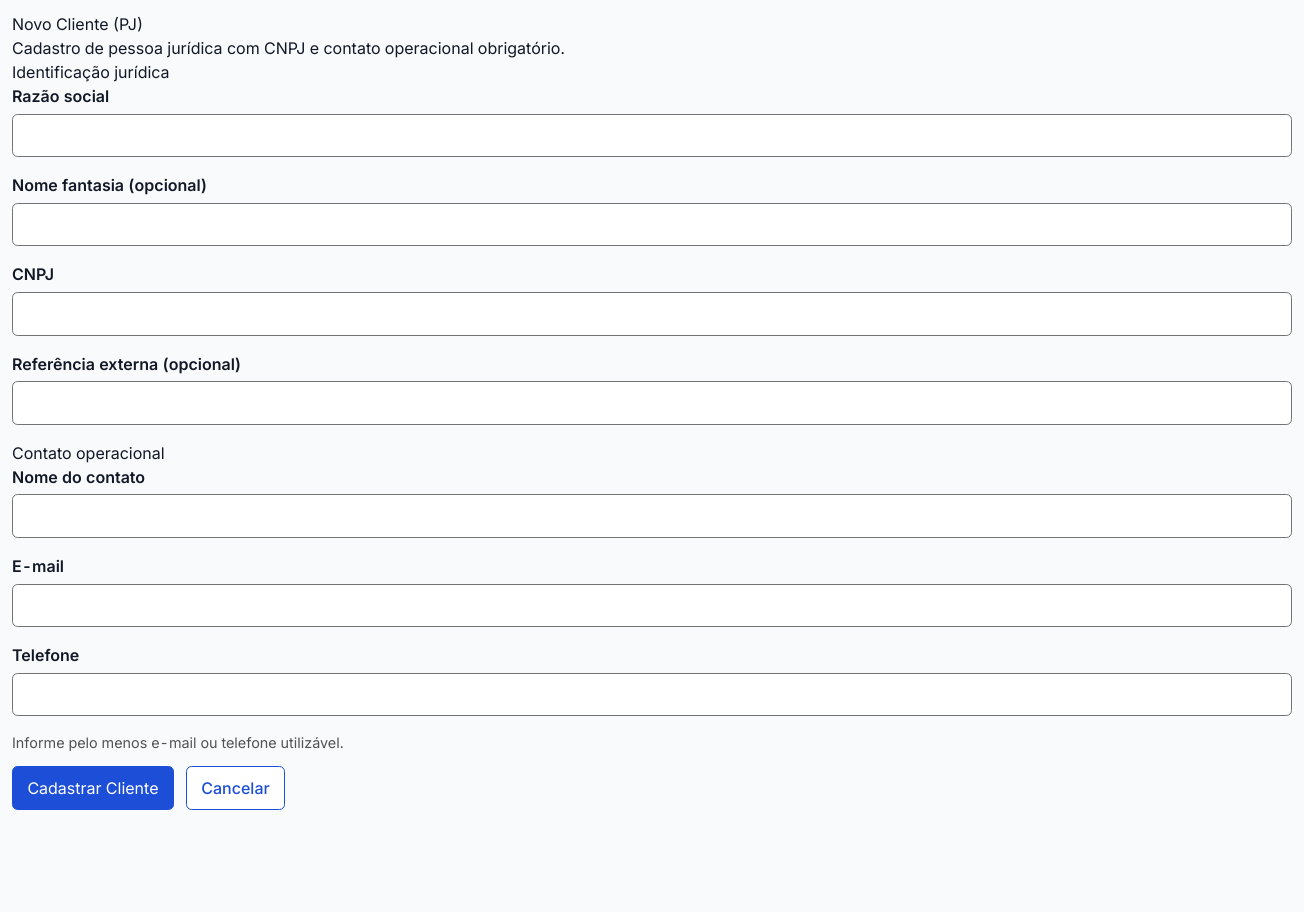
Test: ClientCreatePage › maps duplicate CNPJ to business message
Expected: the heading "Novo Cliente (PJ)" is shown, [12, 14, 143, 34]
Type "Outra LTDA" into the field labelled "Razão social" at (652, 135), box [12, 114, 1292, 157]
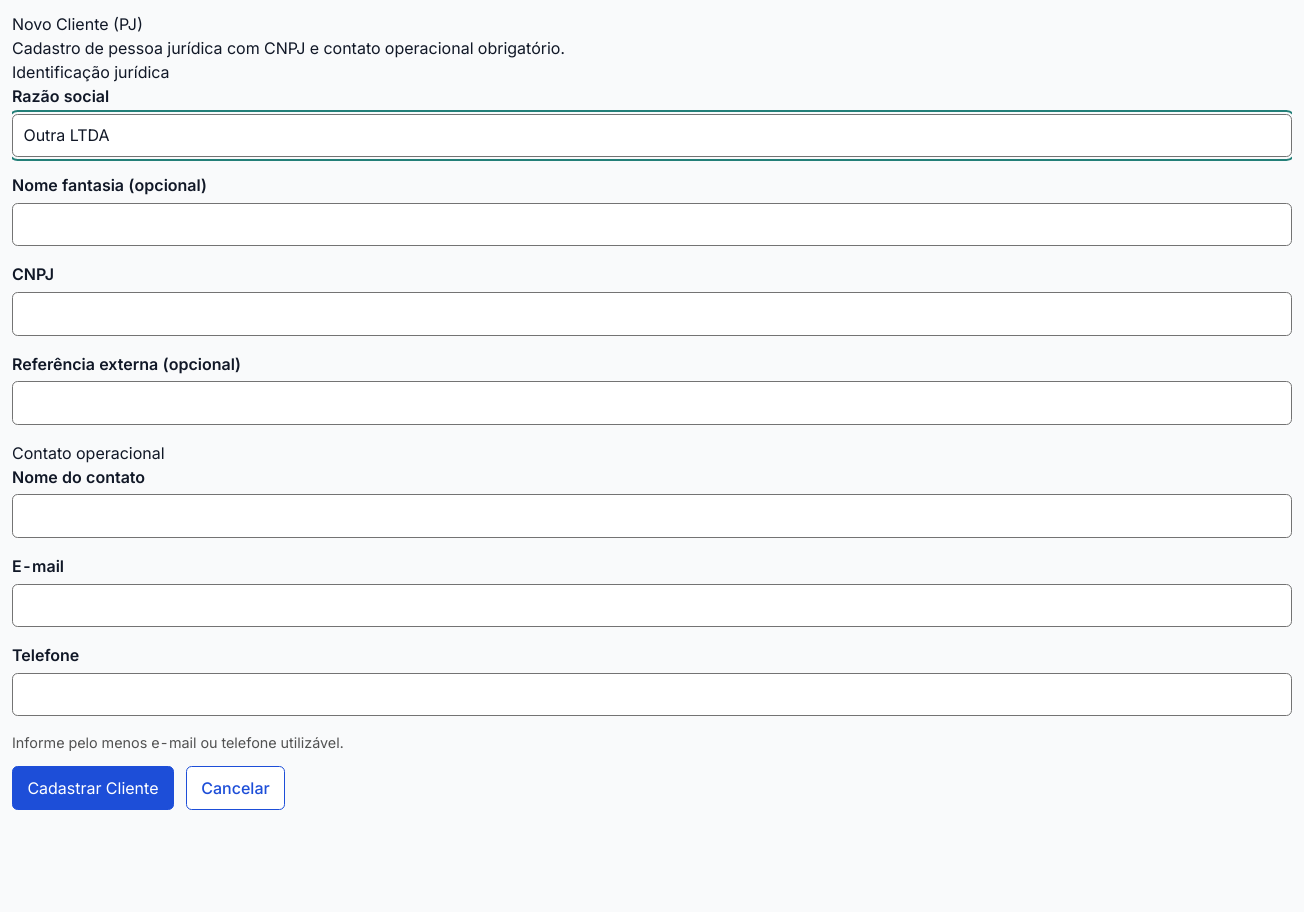
Type "11.222.333/0001-81" into the field labelled "CNPJ" at (652, 314), box [12, 292, 1292, 336]
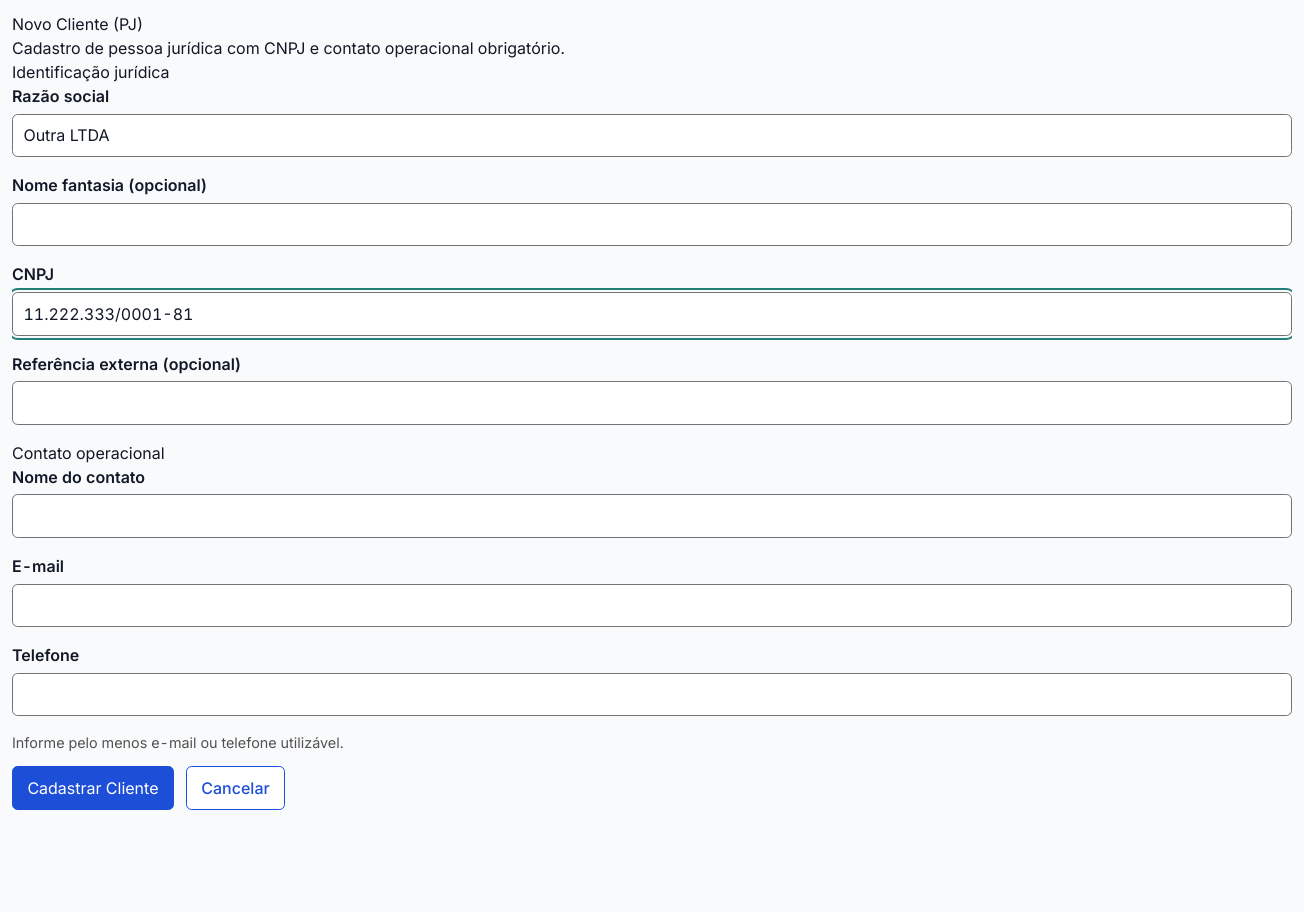
Type "Ops" into the field labelled "Nome do contato" at (652, 516), box [12, 494, 1292, 538]
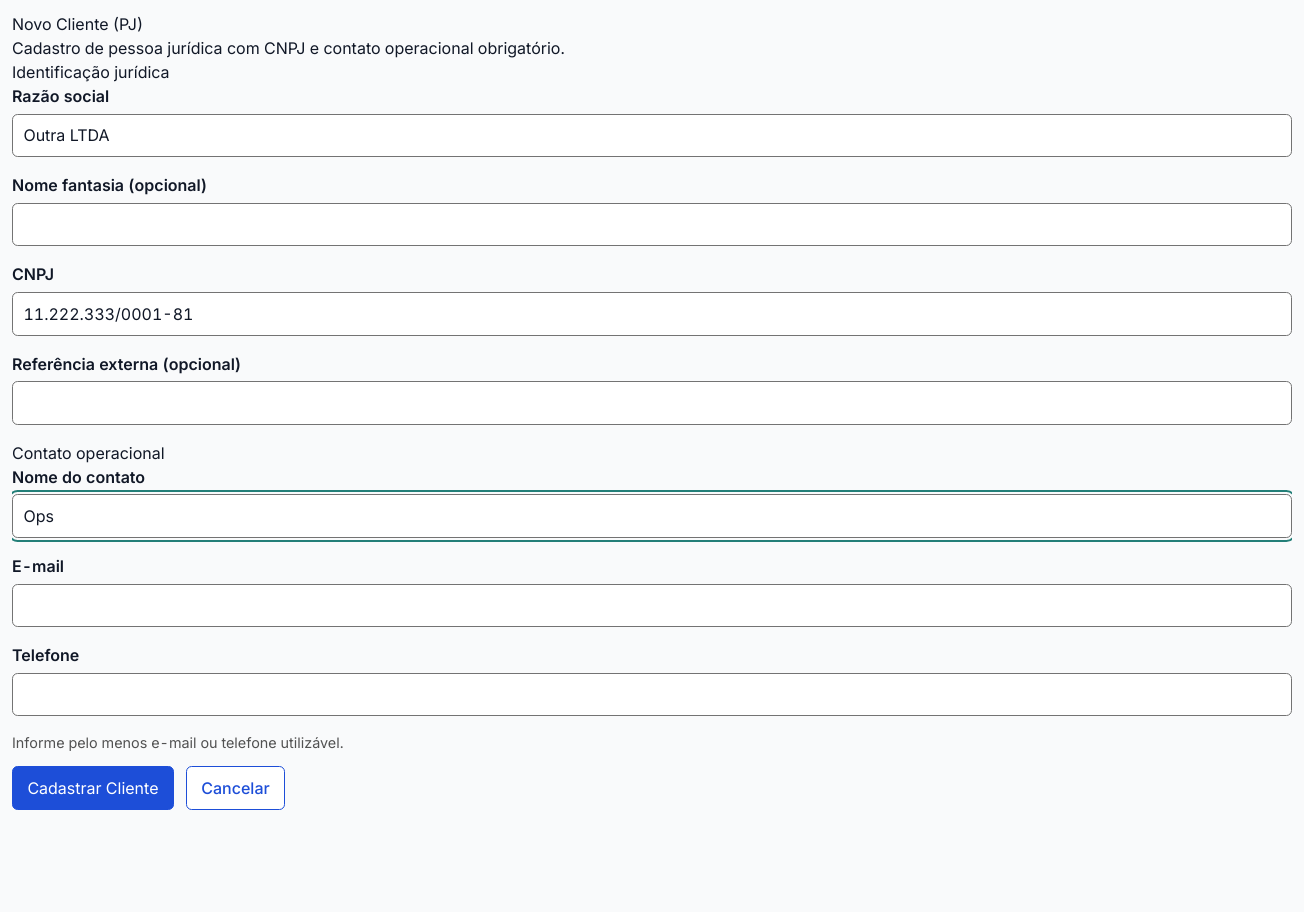
Type "ops@demo.invalid" into the field labelled "E-mail" at (652, 605), box [12, 584, 1292, 627]
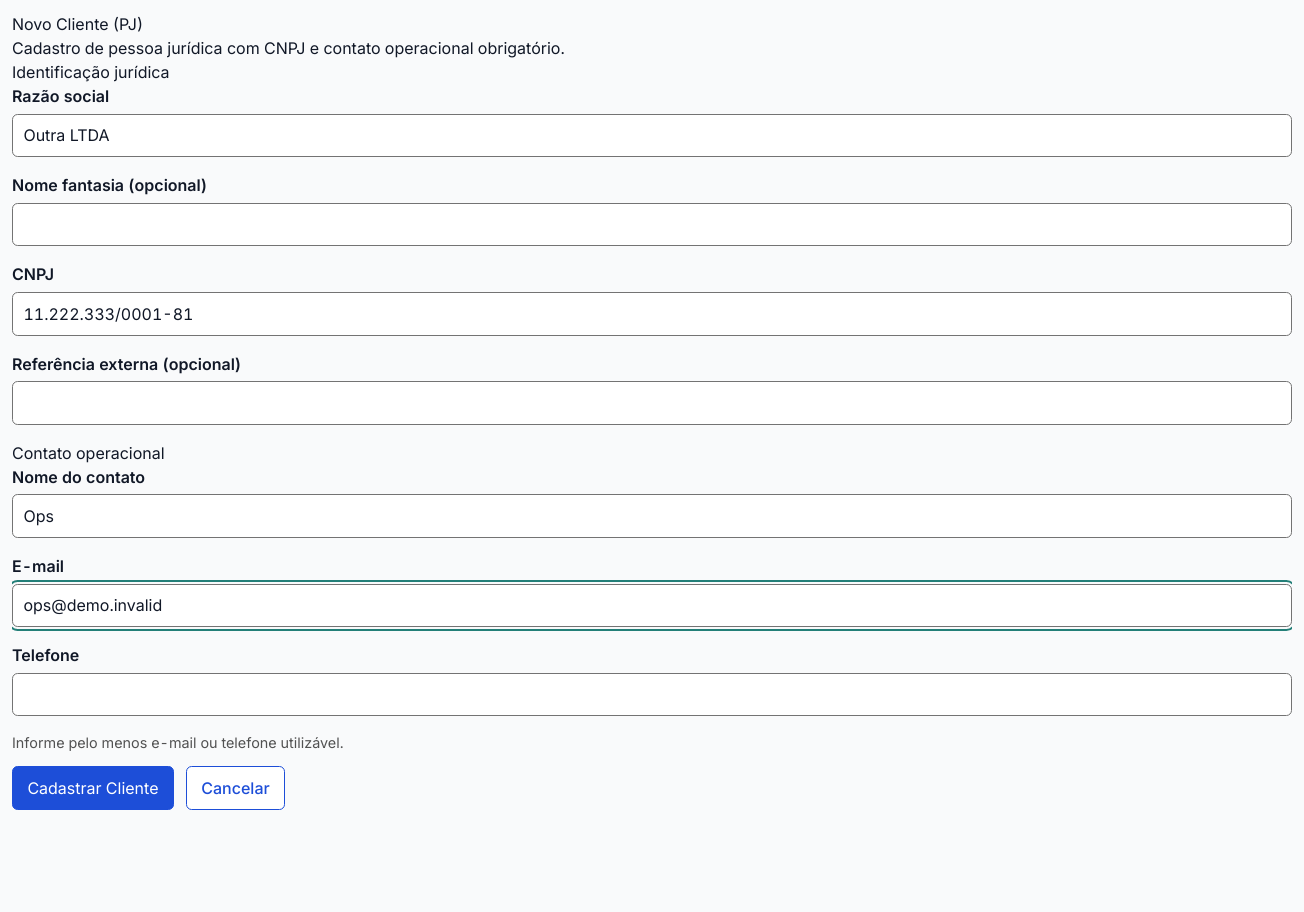
Click the button "Cadastrar Cliente" at (93, 788), box [12, 766, 174, 810]
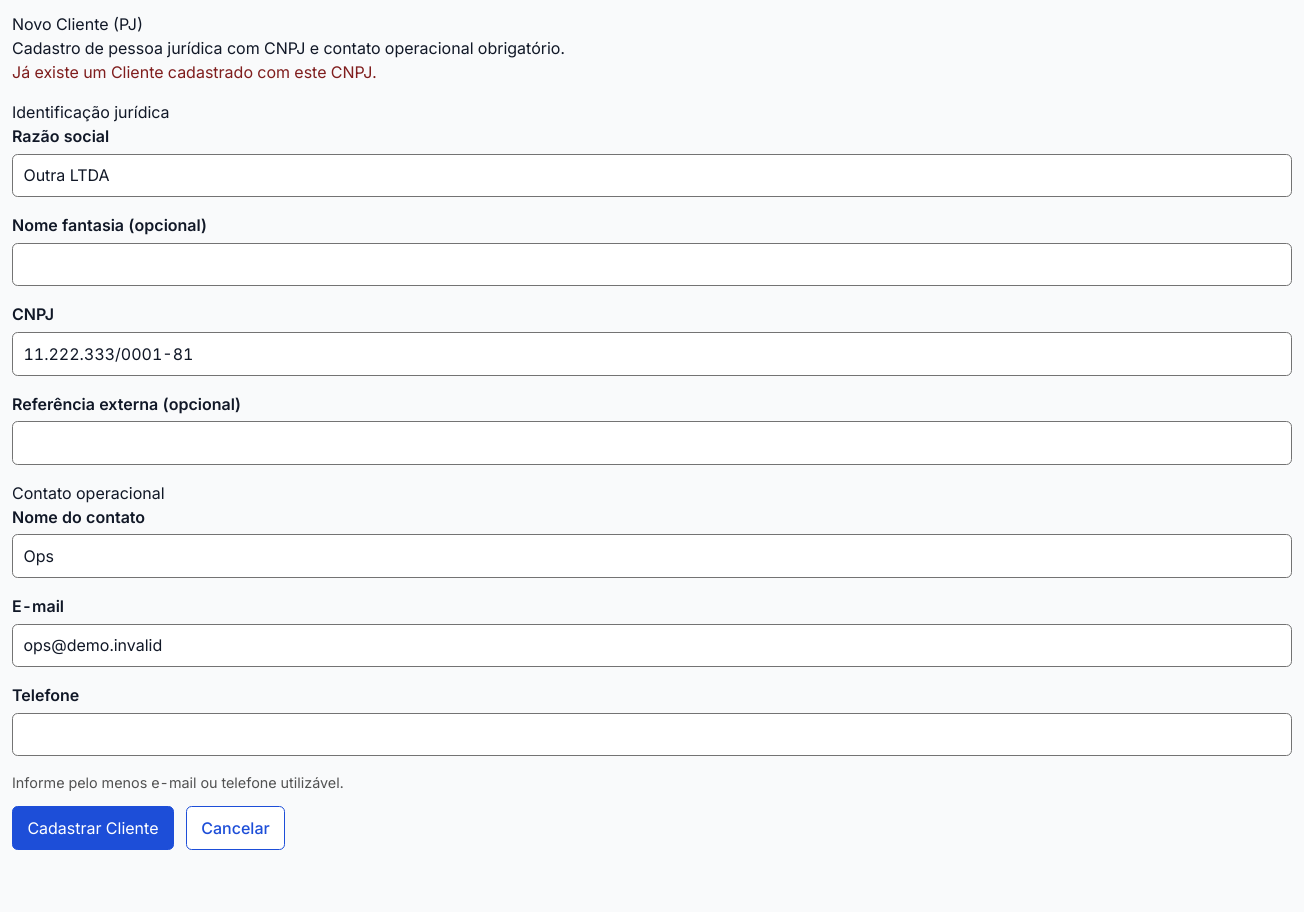
Result: the message shows "Já existe um Cliente cadastrado com este CNPJ" at [12, 62, 377, 82]
